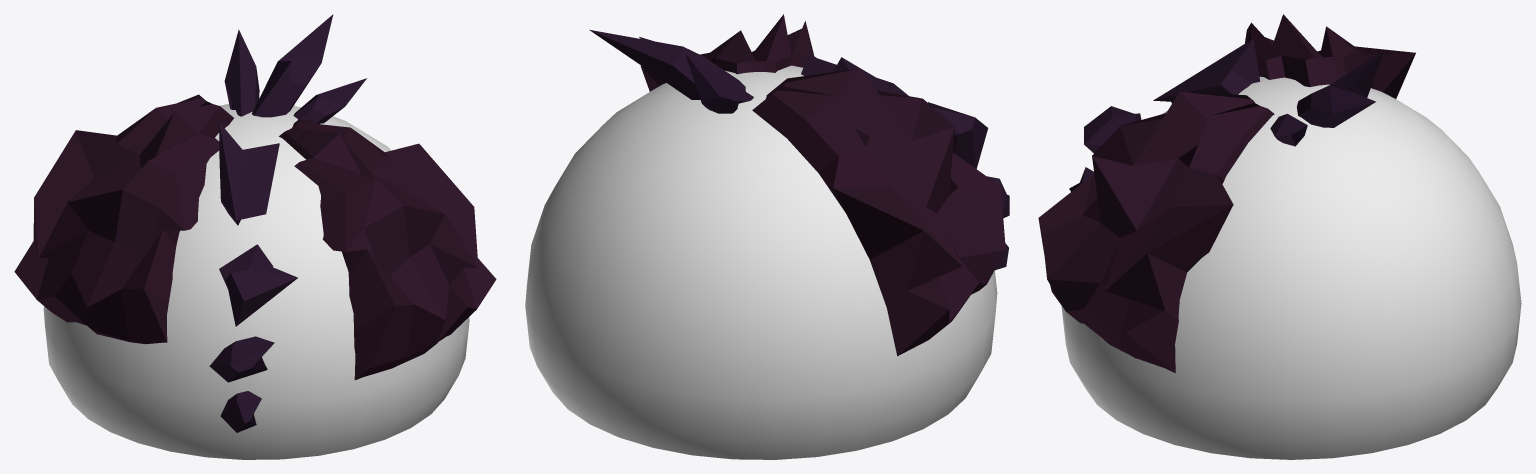
The model's file is Slime.fbx.
The picture shows the model from 3 angles, left to right: view 1: azimuth 30°, elevation 25°; view 2: azimuth 150°, elevation 25°; view 3: azimuth 270°, elevation 25°; orthographic projection. The views are drawn at different scales.
Visible parts, largest first — view 1: Sphere.002, Sphere.006, Sphere.005, Cube.003, Cube.006, Cube.004, Cube, Cube.002, Cube.005, Cube.001; view 2: Sphere.002, Sphere.006, Sphere.005, Cube.006, Cube, Cube.004, Cube.003; view 3: Sphere.002, Sphere.005, Sphere.006, Cube.003, Cube.006, Cube.004, Cube, Cube.005.
Boxes of the visible parts, bbox=[...] form: Sphere.002: bbox=[43, 104, 469, 459]; Sphere.006: bbox=[14, 94, 233, 344]; Sphere.005: bbox=[279, 118, 496, 380]; Cube.003: bbox=[219, 122, 279, 225]; Cube.006: bbox=[252, 14, 333, 117]; Cube.004: bbox=[219, 244, 297, 326]; Cube: bbox=[224, 29, 259, 116]; Cube.002: bbox=[209, 336, 274, 382]; Cube.005: bbox=[293, 78, 366, 123]; Cube.001: bbox=[220, 391, 261, 432]; Sphere.002: bbox=[525, 65, 997, 459]; Sphere.006: bbox=[752, 68, 1005, 356]; Sphere.005: bbox=[640, 14, 816, 91]; Cube.006: bbox=[589, 30, 745, 99]; Cube: bbox=[685, 53, 753, 113]; Cube.004: bbox=[928, 102, 988, 168]; Cube.003: bbox=[801, 55, 908, 95]; Sphere.002: bbox=[1061, 76, 1521, 459]; Sphere.005: bbox=[1038, 91, 1274, 373]; Sphere.006: bbox=[1245, 14, 1415, 98]; Cube.003: bbox=[1153, 38, 1260, 103]; Cube.006: bbox=[1297, 85, 1375, 127]; Cube.004: bbox=[1084, 106, 1141, 152]; Cube: bbox=[1330, 50, 1384, 97]; Cube.005: bbox=[1270, 113, 1307, 146].
Bounding box in the file's own units: 63.15 × 51.01 × 62.68.
